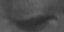LeftEyeFatigue: (6, 10, 64, 31)
